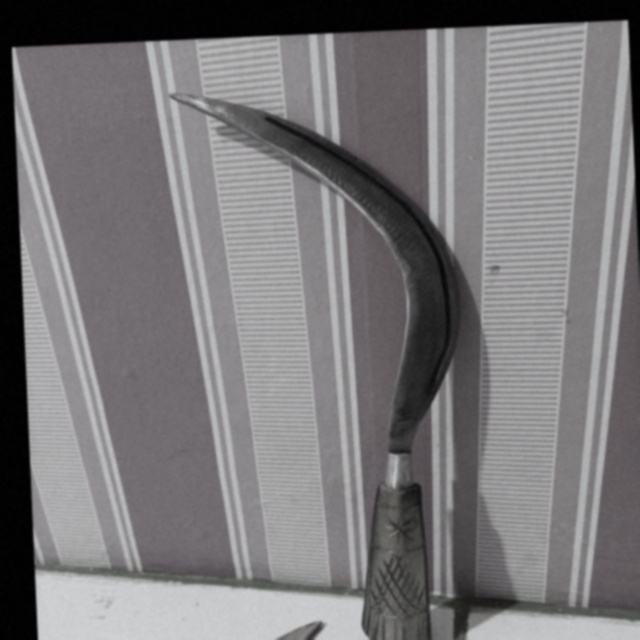Sharp-Object: (164, 63, 469, 640)
